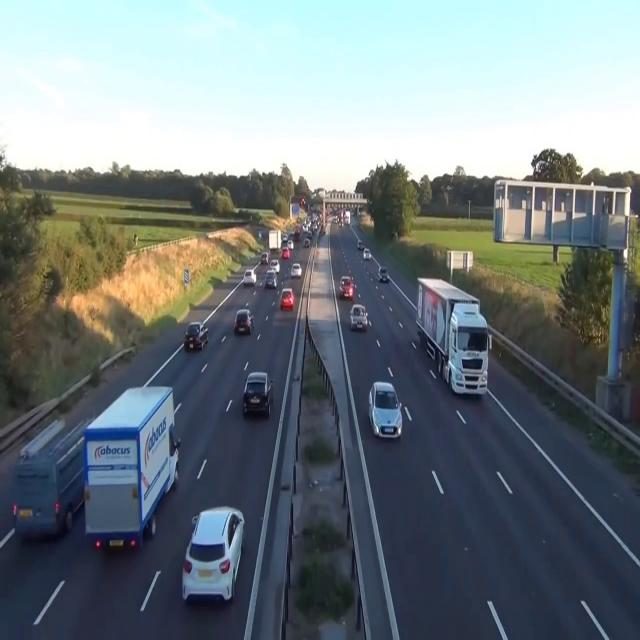belum terisi: (76, 369, 182, 564), (411, 268, 497, 409), (12, 409, 86, 551), (175, 487, 249, 618), (365, 371, 403, 454), (236, 363, 277, 430), (175, 311, 214, 363), (346, 292, 372, 336), (232, 300, 259, 340), (276, 277, 297, 319), (337, 265, 356, 307)
